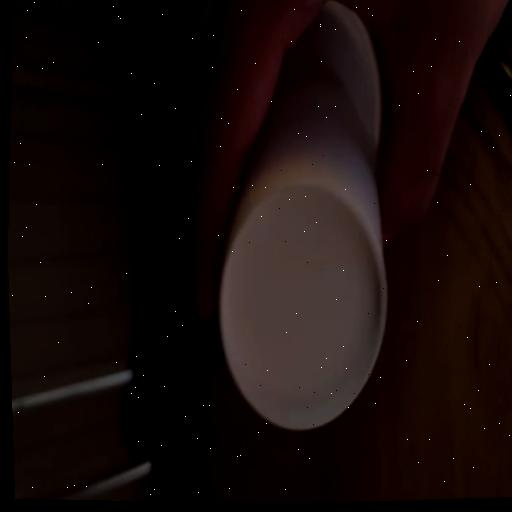Ly_giay: (219, 1, 387, 429)
